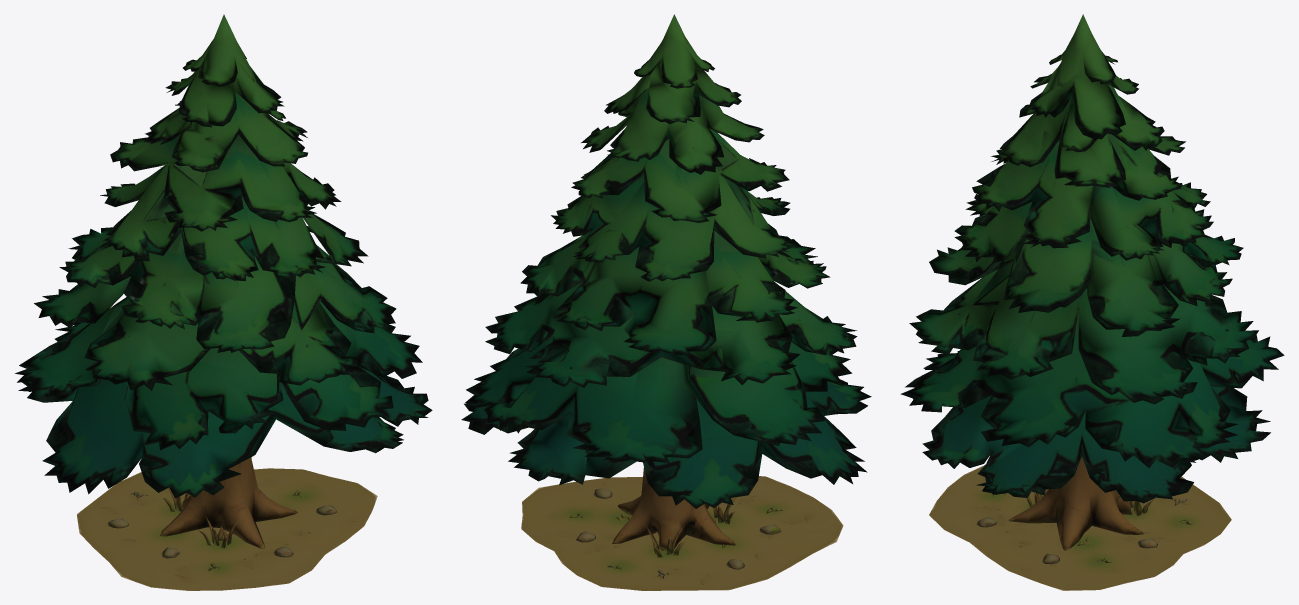
Rendered from tree.glb.
3 renders of one model, left to right at view 1: azimuth 30°, elevation 25°; view 2: azimuth 150°, elevation 25°; view 3: azimuth 270°, elevation 25°, orthographic.
Parts seen in each view (by area): view 1: tripo_node_992d5a74-619f-435d-807f-1cc1b5948725; view 2: tripo_node_992d5a74-619f-435d-807f-1cc1b5948725; view 3: tripo_node_992d5a74-619f-435d-807f-1cc1b5948725.
Boxes of the visible parts, x1,y1,x2,y2 form: tripo_node_992d5a74-619f-435d-807f-1cc1b5948725: (15,14,432,590); tripo_node_992d5a74-619f-435d-807f-1cc1b5948725: (461,14,871,590); tripo_node_992d5a74-619f-435d-807f-1cc1b5948725: (900,14,1284,590).
Size of the model in its own units: 5.32 by 7.32 by 5.
Materials: 1 (1 with a texture image).
